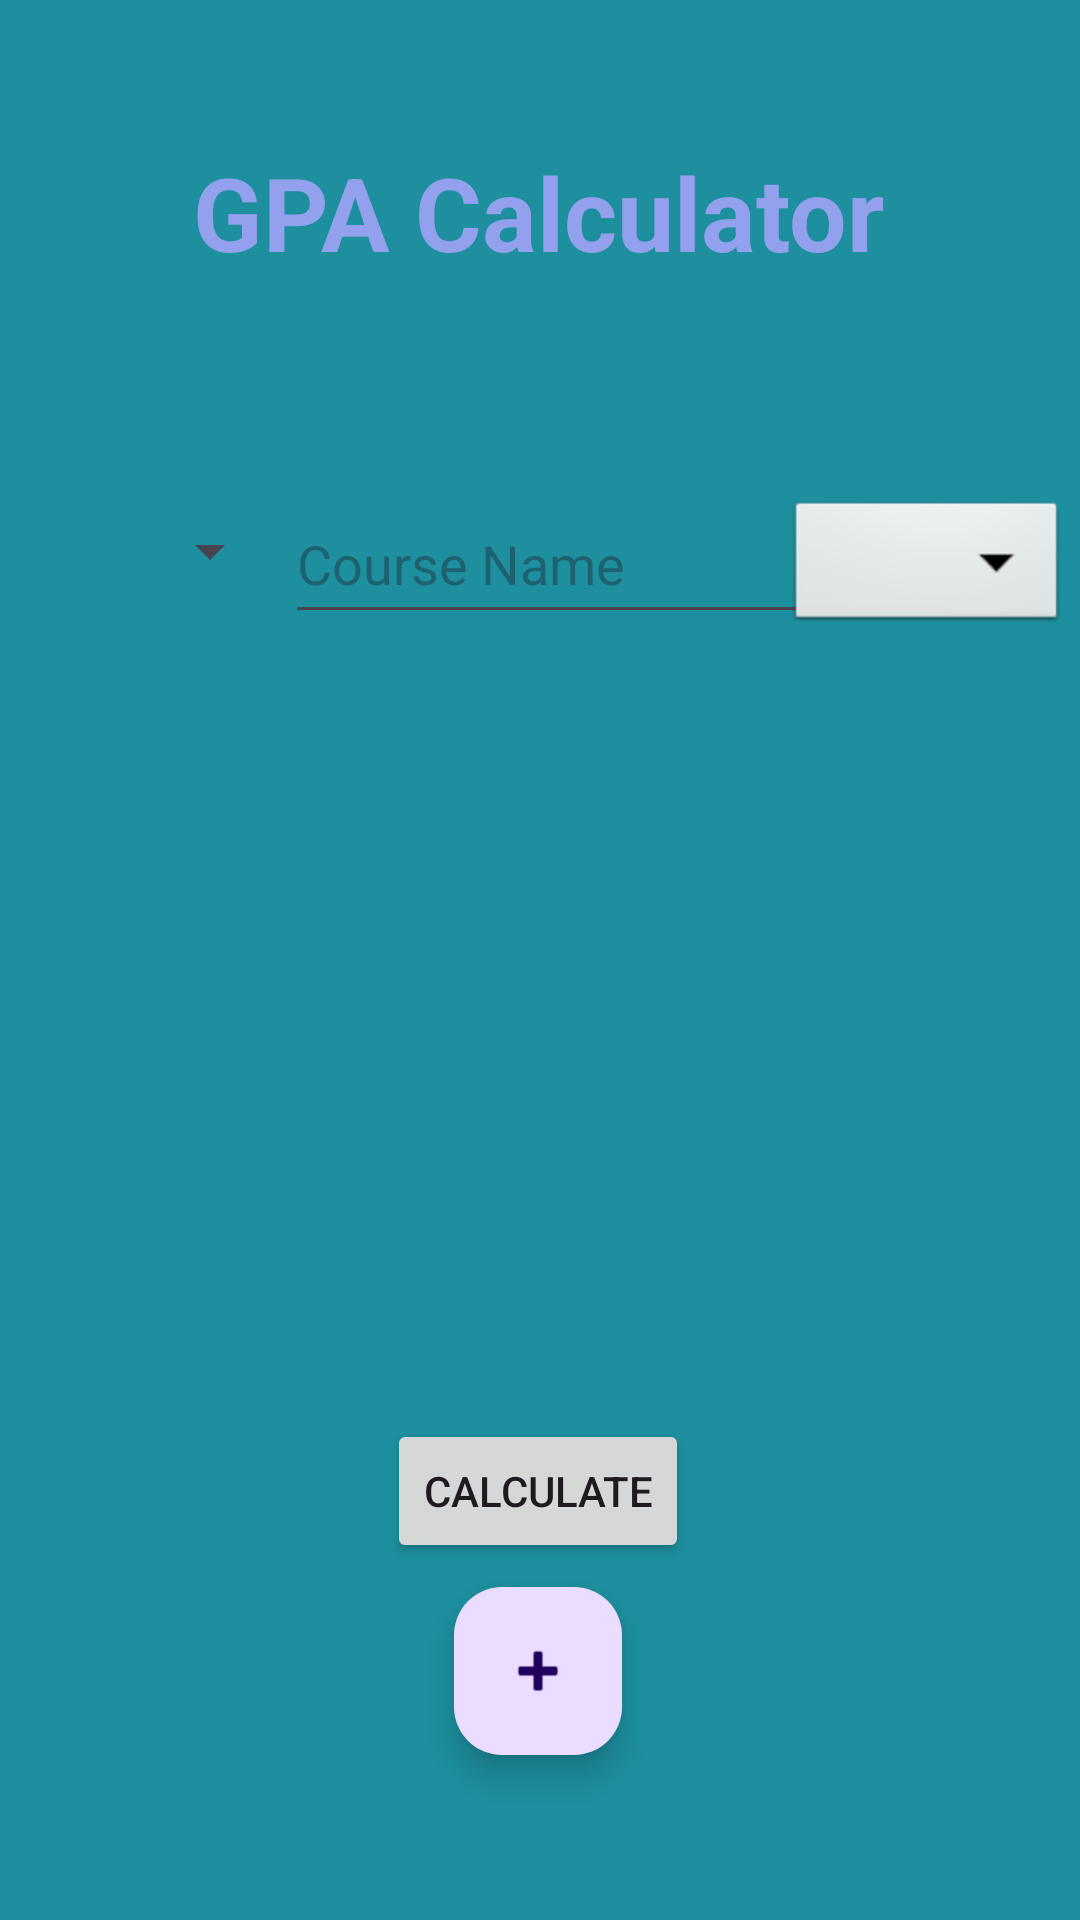

Where to tap for icons on this 1080 x 1920 app screen, as (x,y):
add: (538,1671)
